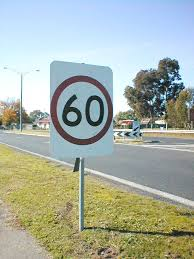Speed_limit_60km: (49, 75, 114, 148)
